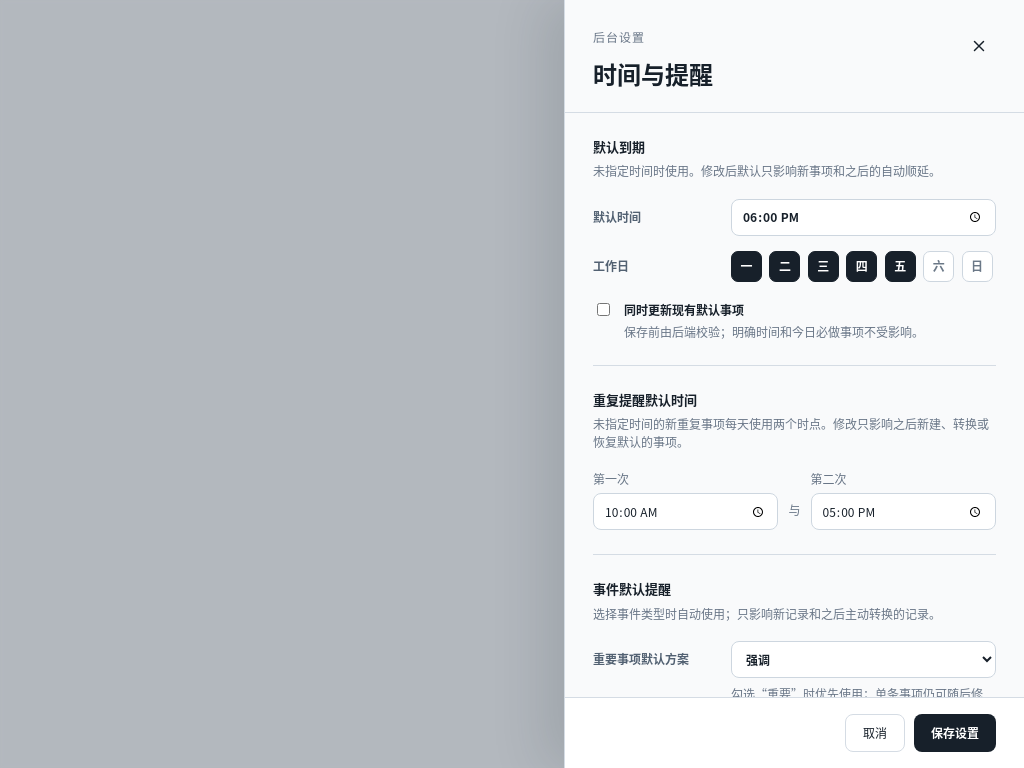
Test: SettingsPanel › 原样展示后端返回的快捷键错误
Click the button "保存设置" at (955, 733), box [914,714,996,752]
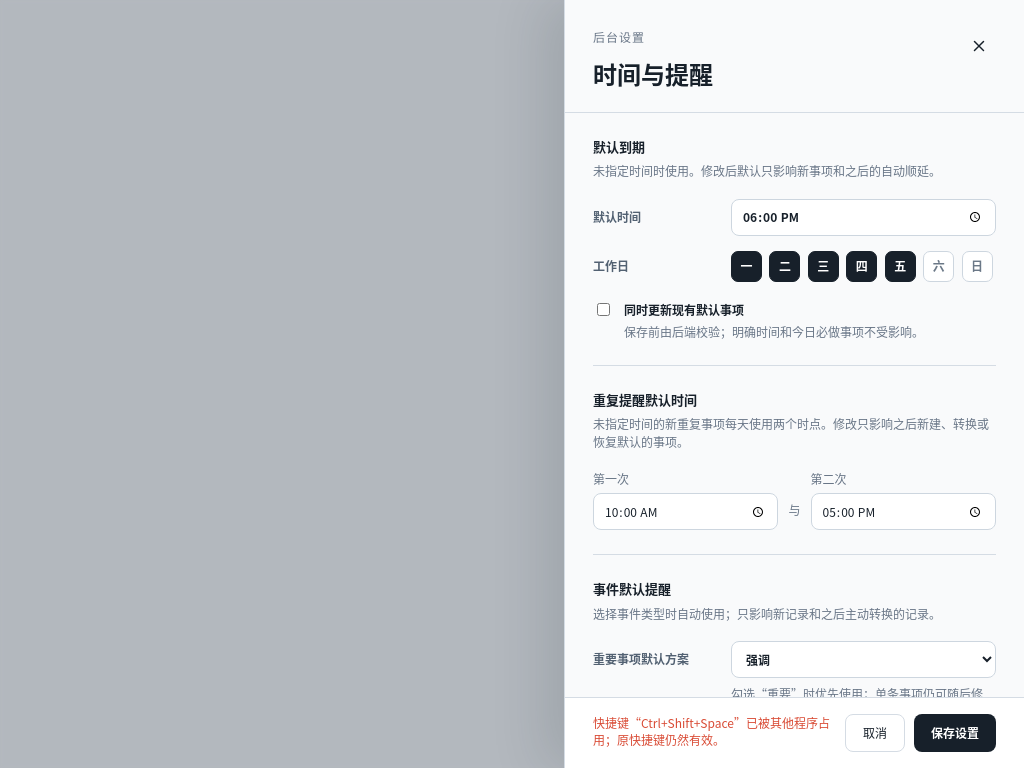
Expected: the message reads "快捷键“Ctrl+Shift+Space”已被其他程序占用；原快捷键仍然有效。", [593,714,830,748]
